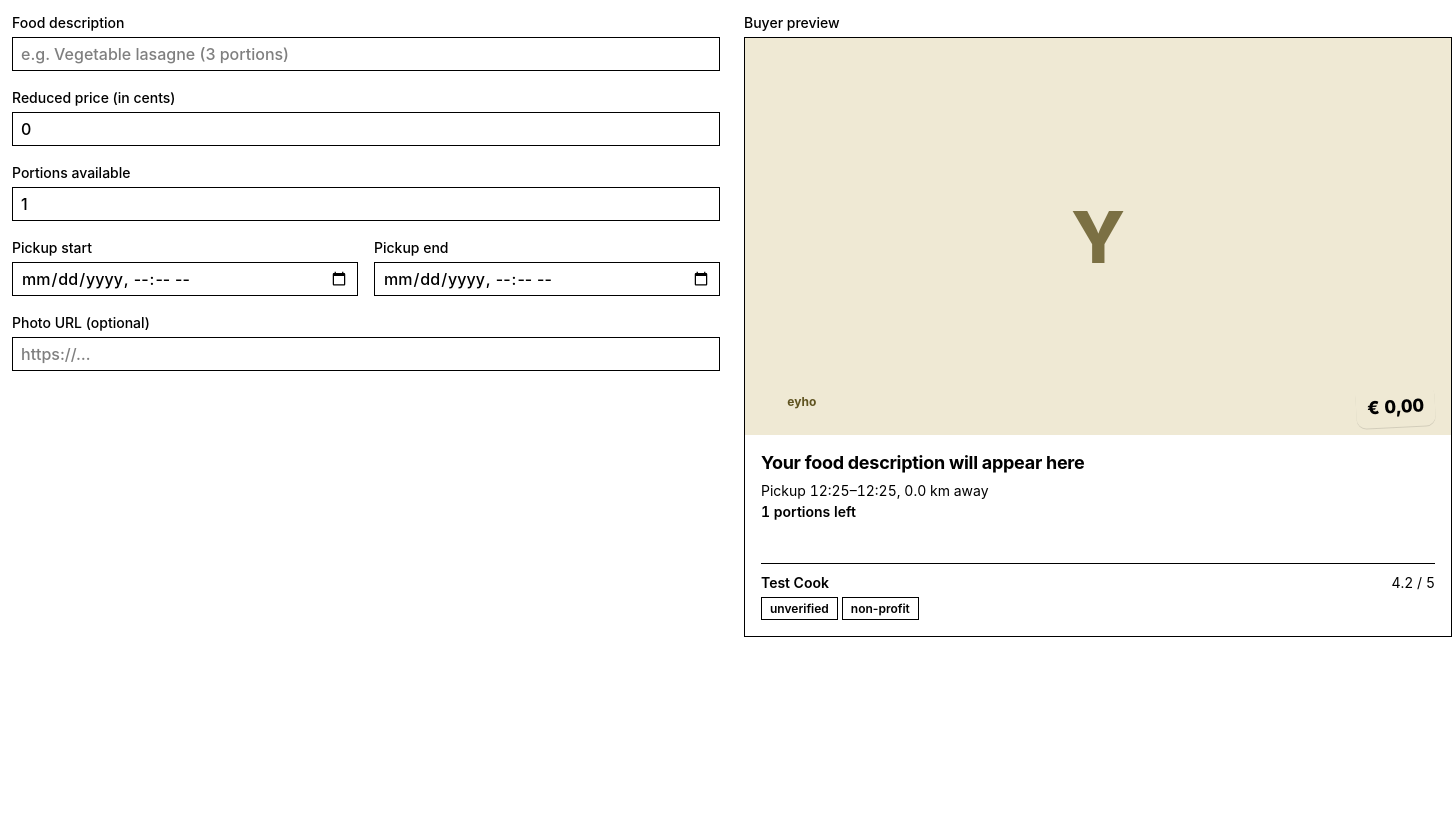
Test: ListingForm — live preview › updates the preview portions remaining as the user types
Replace the text in the number field labelled "Portions available" with "7" at (366, 204), box [12,187,720,221]
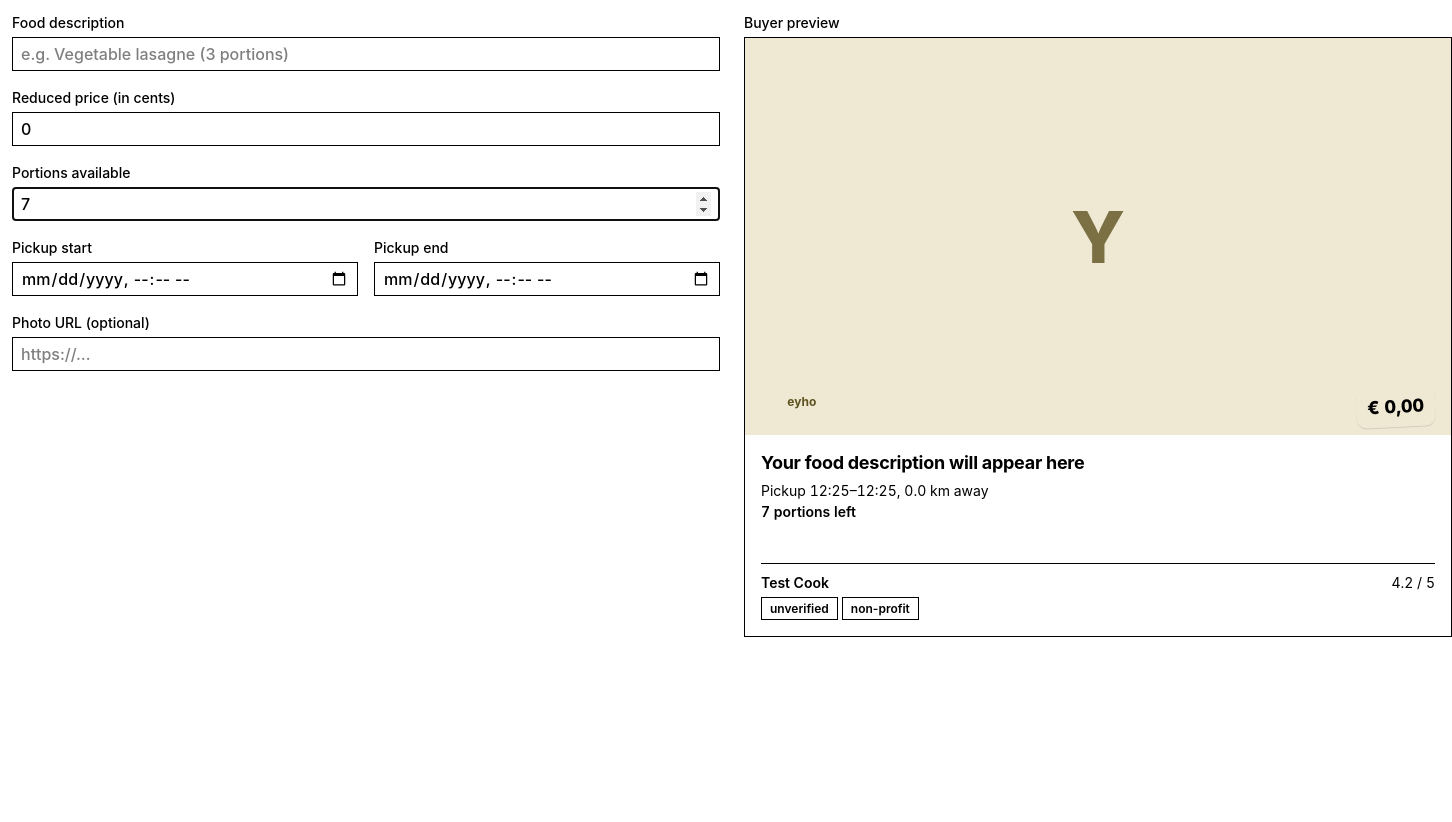
Expected: the text "7 portions left" is shown, [761,503,856,520]
